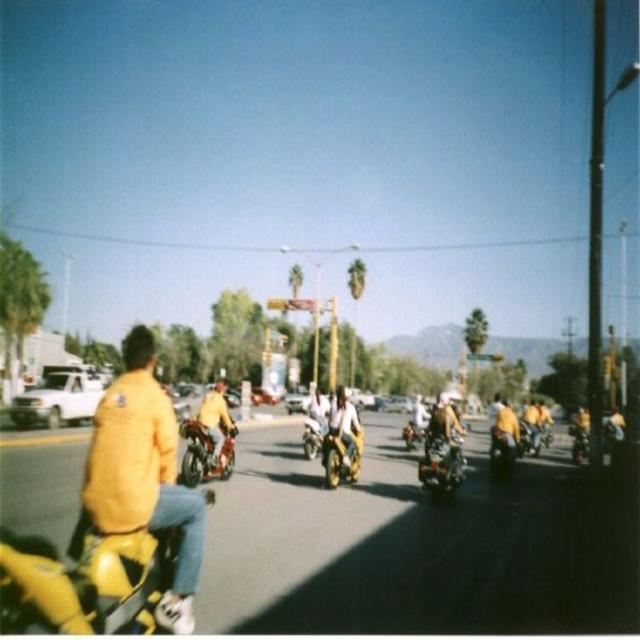Motorbikes: (0, 517, 198, 633), (180, 383, 241, 490), (323, 388, 369, 493), (417, 436, 467, 508)
